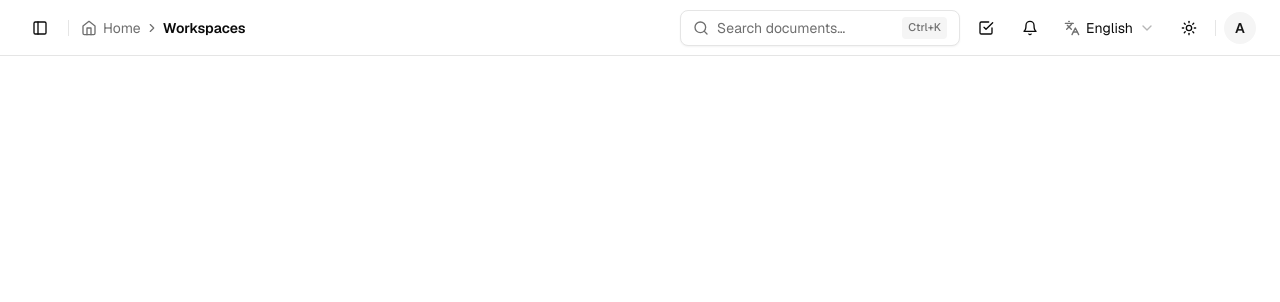
Test: AppTopbar notifications menu › writes its own open and close back to the store
The image size is (1280, 302).
Click the button with test id "notifications-button": (1030, 28) [1012,10,1048,46]
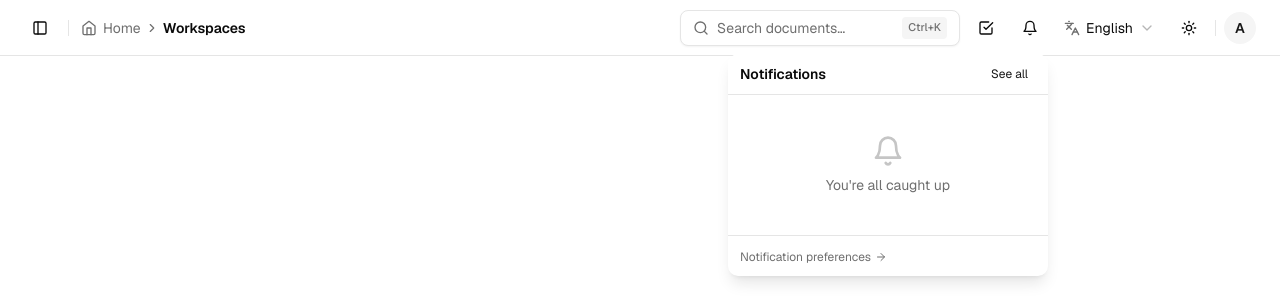
Expected: the button with test id "notif-see-all" is shown, [983,62,1036,86]
Press Escape
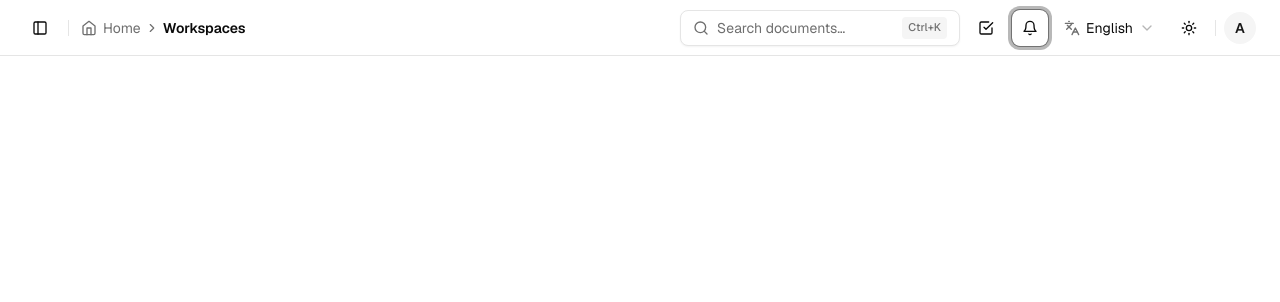
Expected: the button with test id "notif-see-all" is gone
